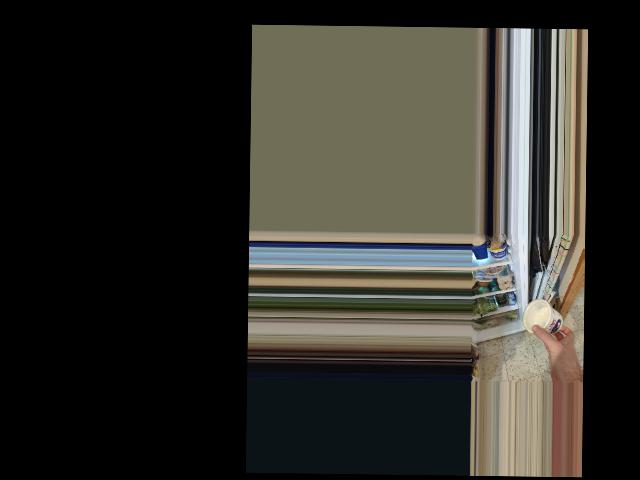cotage: (522, 298, 565, 337)
